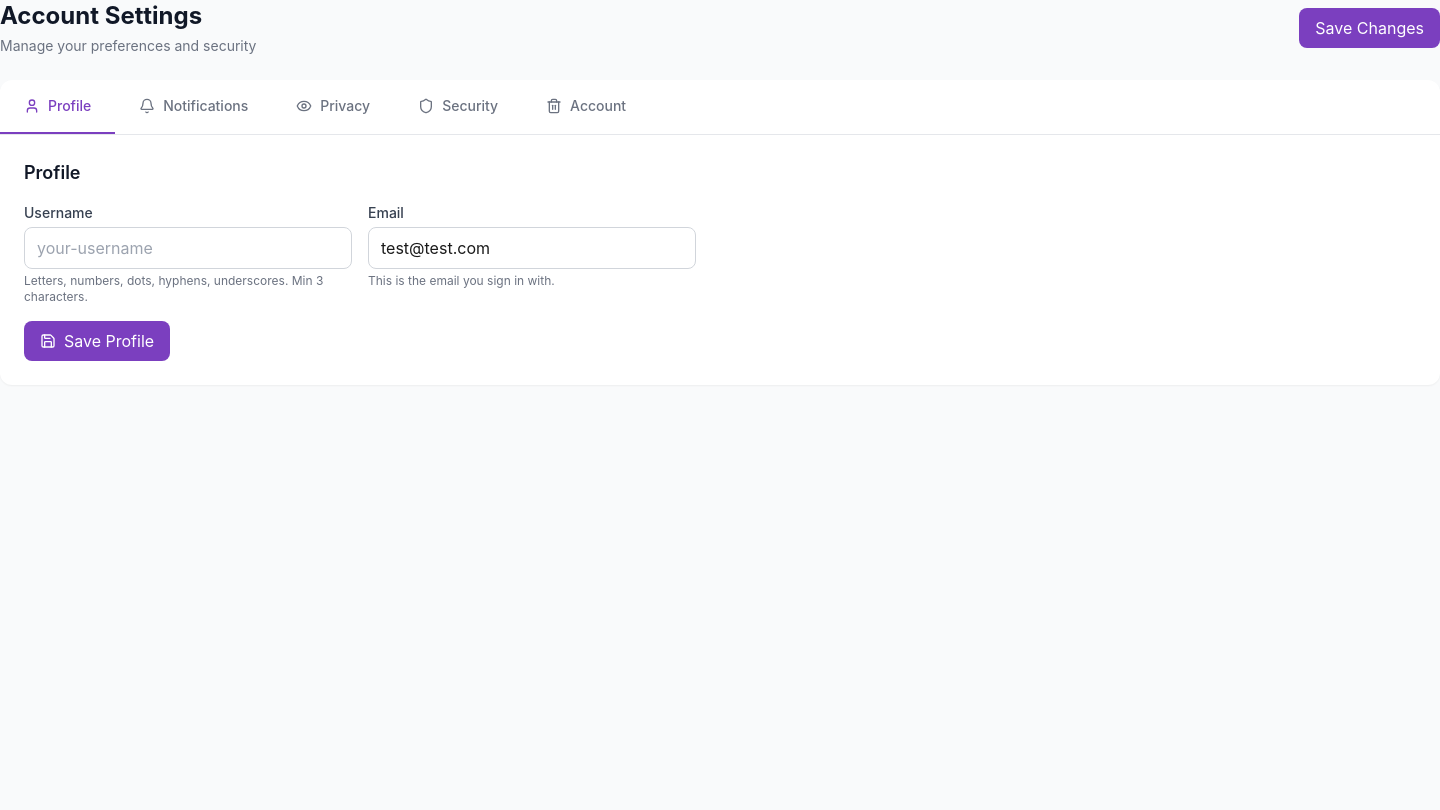
Settings › shows delete account confirmation modal when Delete Account is clicked
The width and height of the screenshot is (1440, 810).
What coordinates should you click on to do the following:
click the button "Account"
I would click on:
 (586, 107)
Its box is 522,80 -> 650,134.
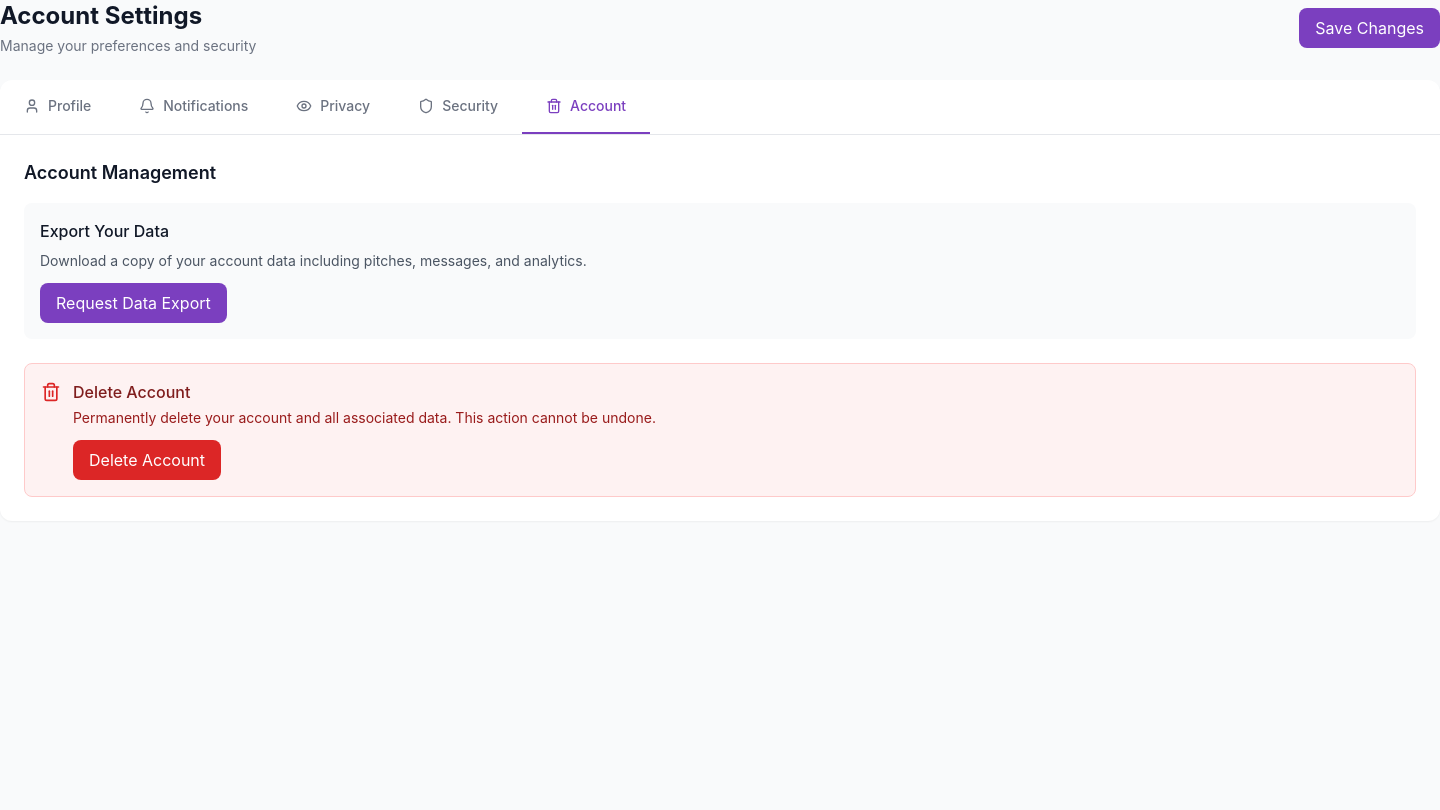
Expected: the heading "Delete Account" is shown, 73,382 -> 190,402
// Click the button inside the card (not the tab)
What coordinates should you click on to do the following:
click the button "Delete Account"
I would click on:
 (147, 460)
Its box is 73,440 -> 221,480.
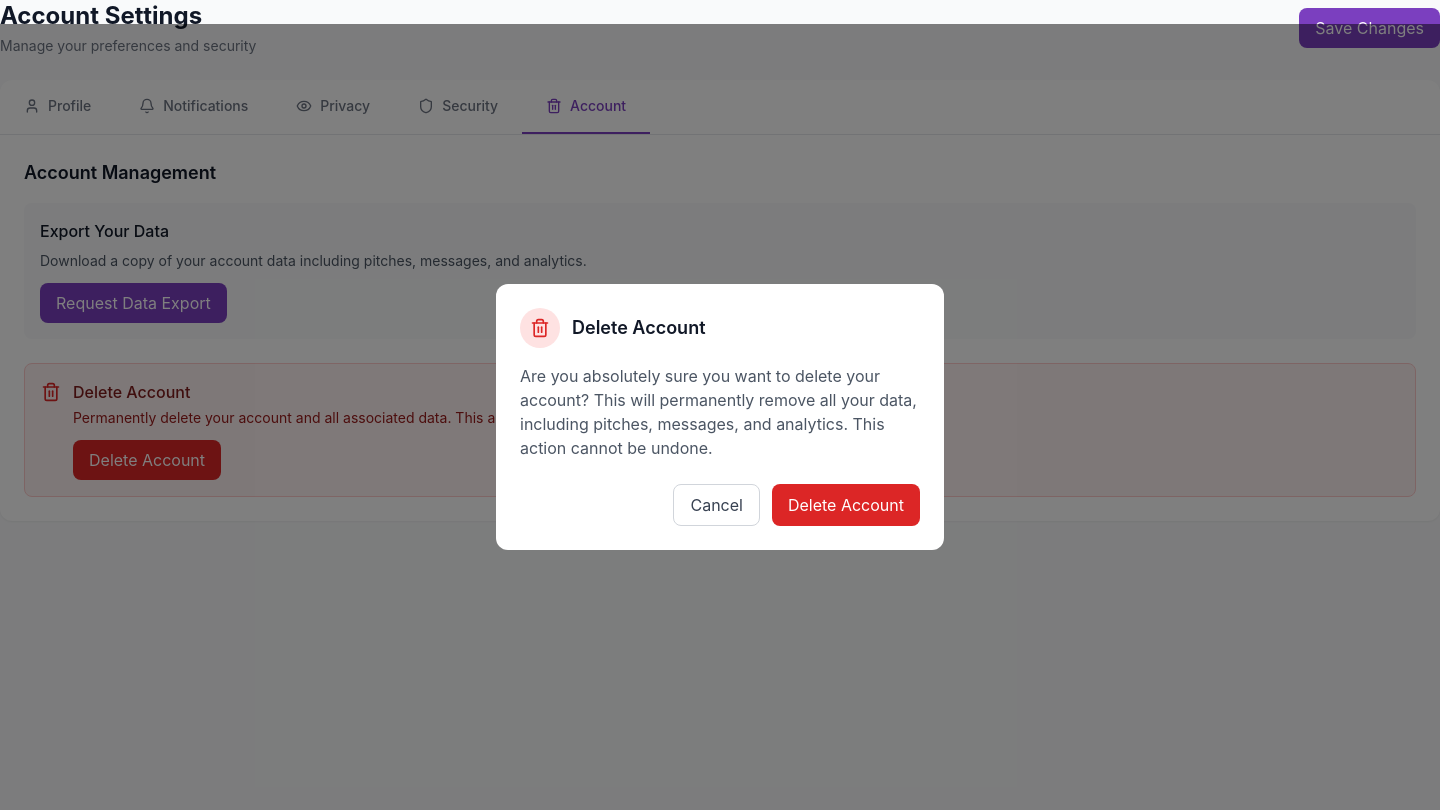
Expected: the text "Are you absolutely sure" is shown, 520,366 -> 917,458
